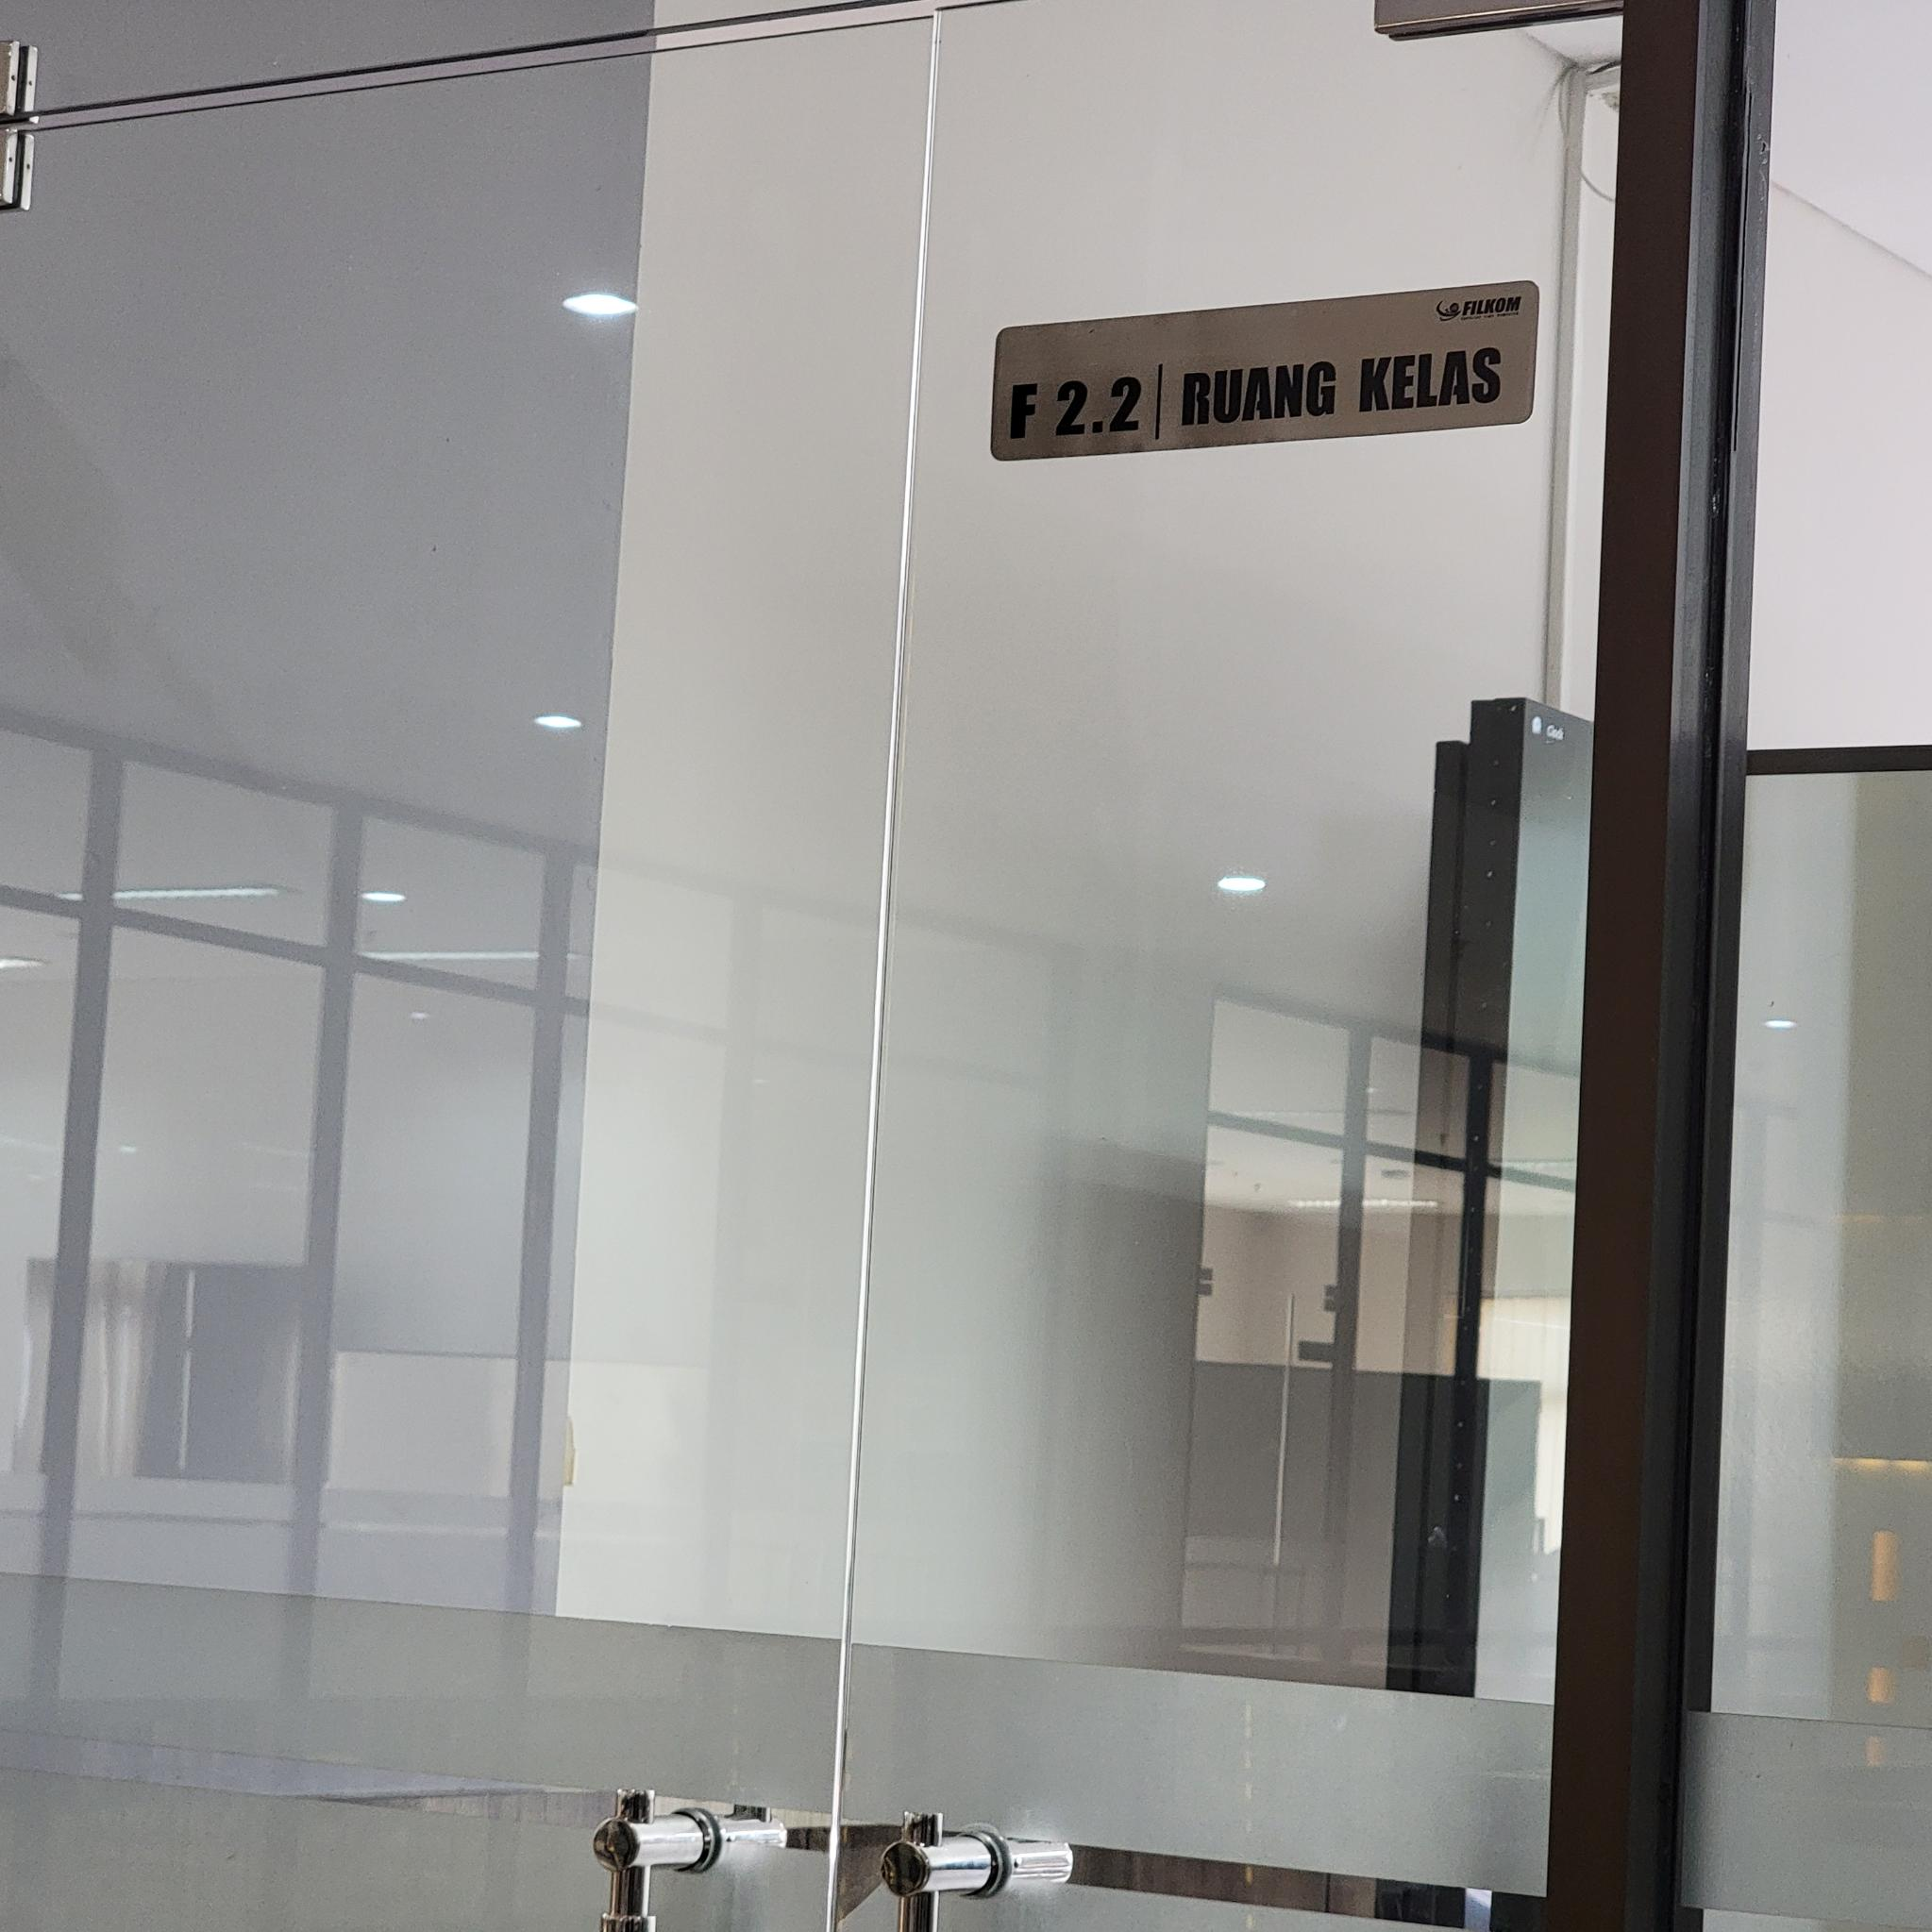plate: (991, 278, 1539, 469)
